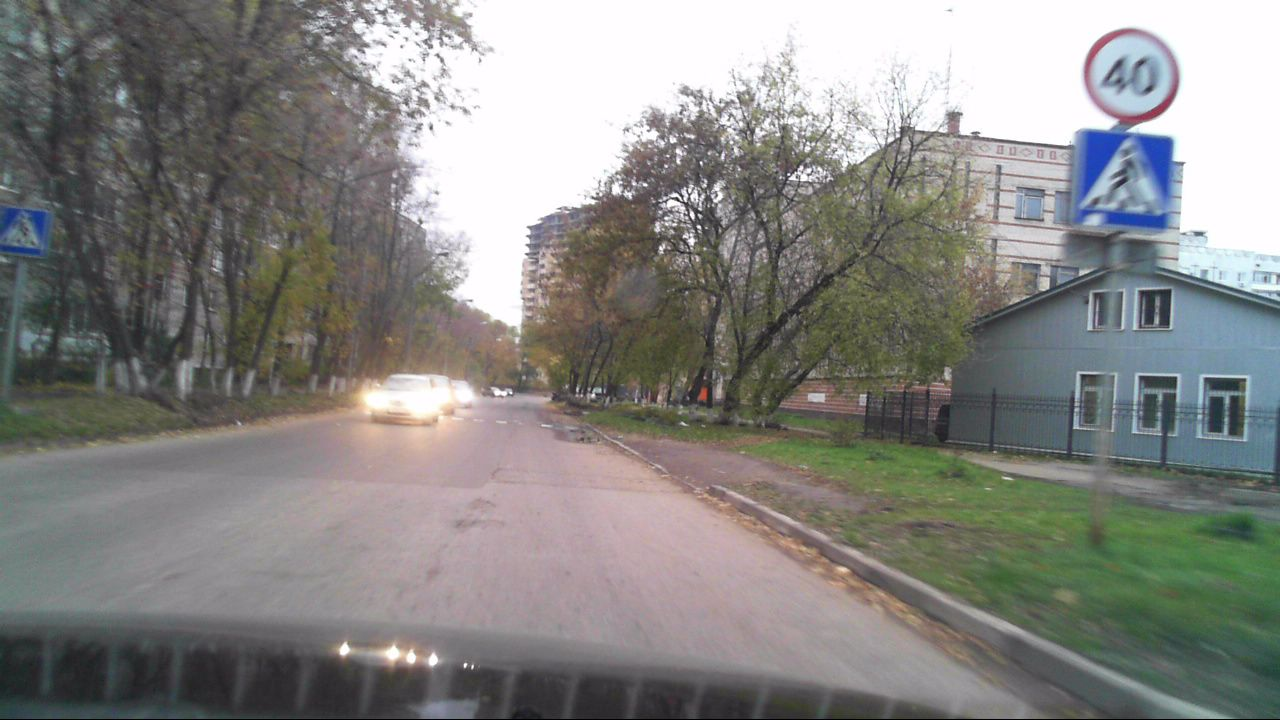speed_warning_40: (1085, 29, 1180, 120)
